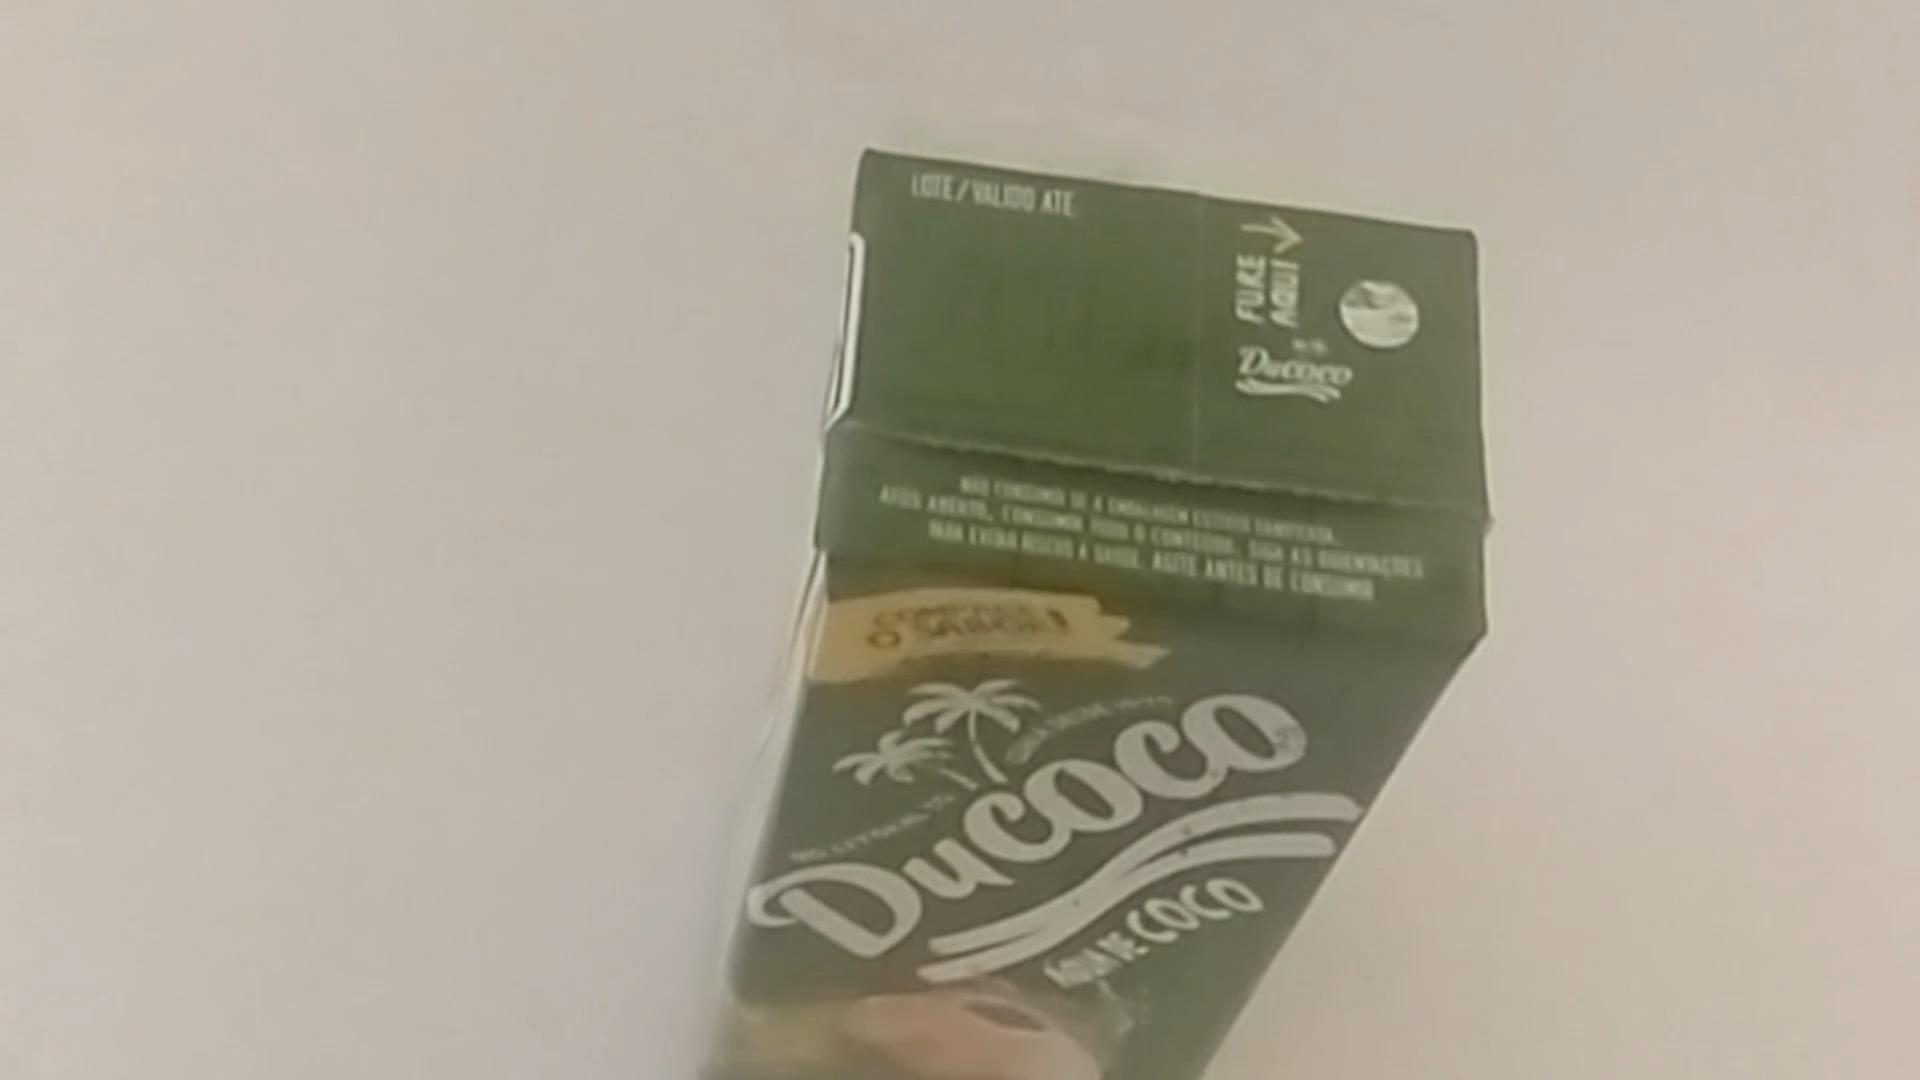coco: (688, 146, 1486, 1080)
